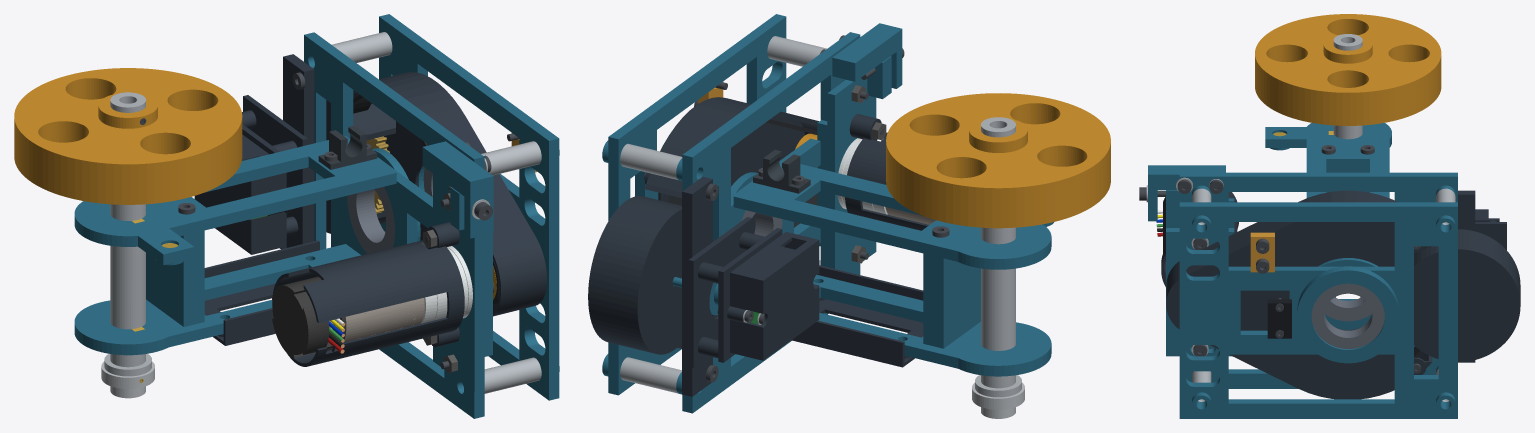
3 renders of one model, left to right at view 1: azimuth 30°, elevation 25°; view 2: azimuth 150°, elevation 25°; view 3: azimuth 270°, elevation 25°, orthographic. The views are drawn at different scales.
Parts seen in each view (by area): view 1: link; view 2: link; view 3: link.
Part boxes in pixels (x1=…): link: x1=14, y1=14, x2=559, y2=418; link: x1=588, y1=14, x2=1110, y2=418; link: x1=1139, y1=14, x2=1520, y2=418.
Size of the model in its own units: 0.1762 by 0.1561 by 0.112.
